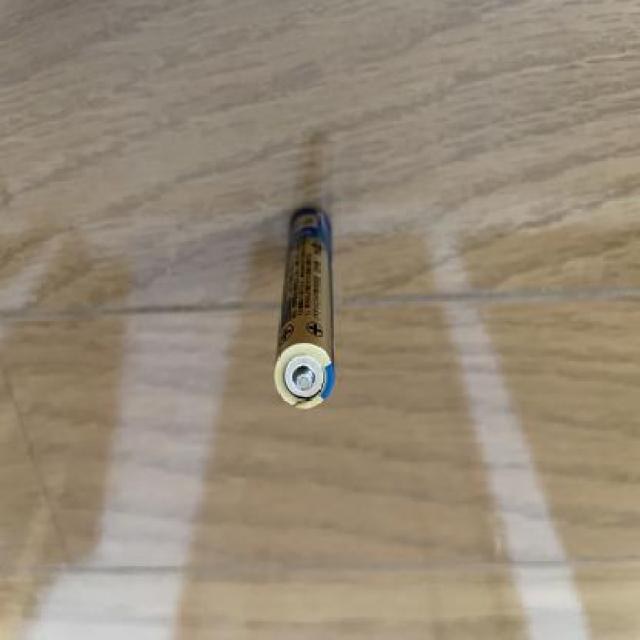AAA: (274, 205, 337, 411)
